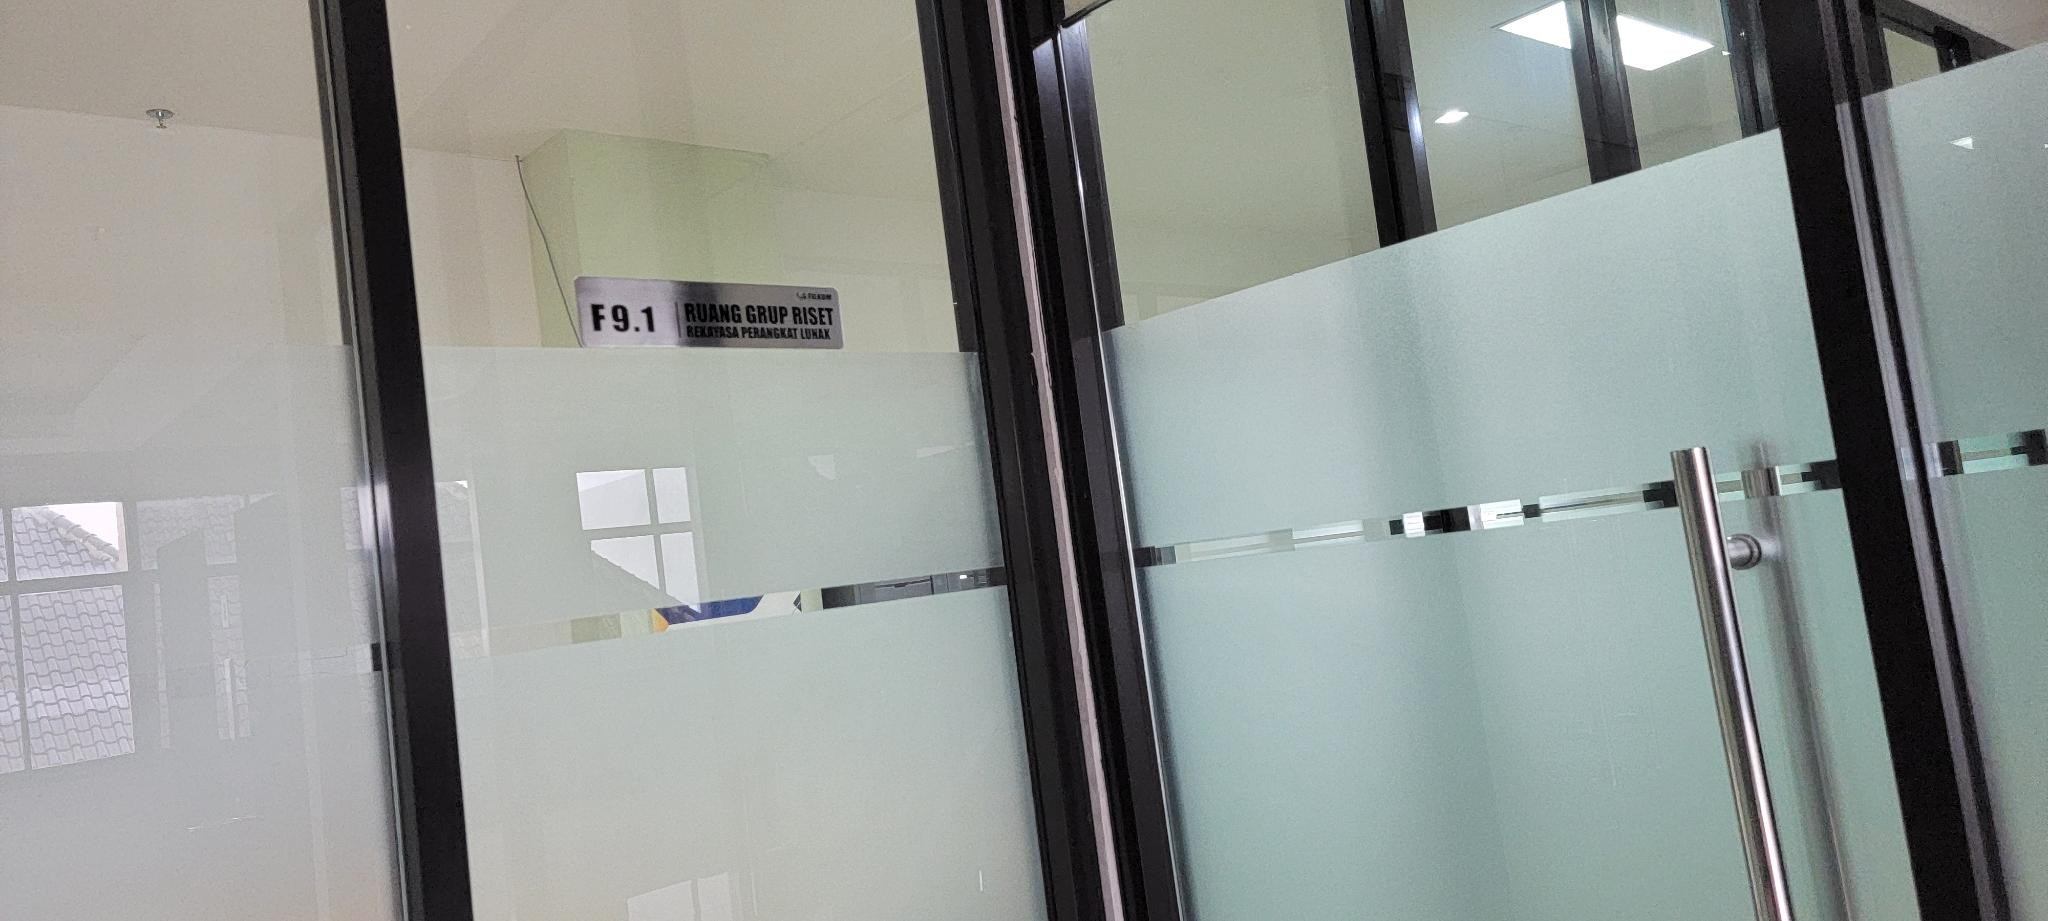plate: (576, 272, 841, 353)
